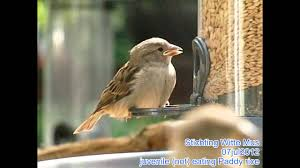hsparrow: (70, 36, 185, 133)
